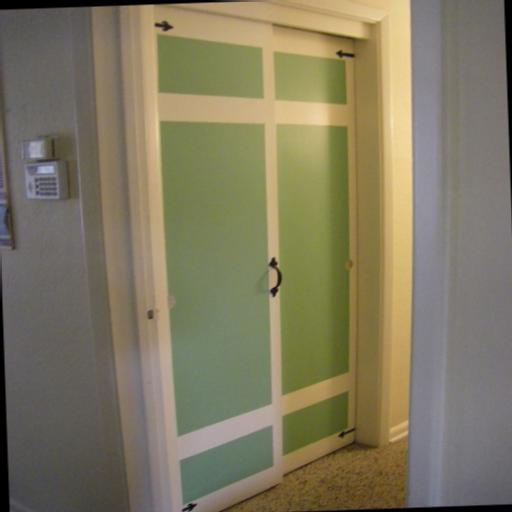Door: (152, 0, 370, 512)
